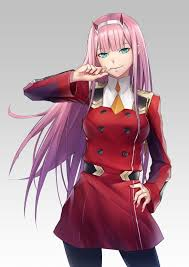zeroTwo: (87, 12, 147, 78)
